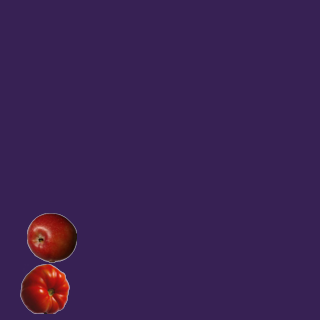Apple Braeburn: (26, 212, 76, 262)
Tomato 3: (19, 263, 69, 313)
